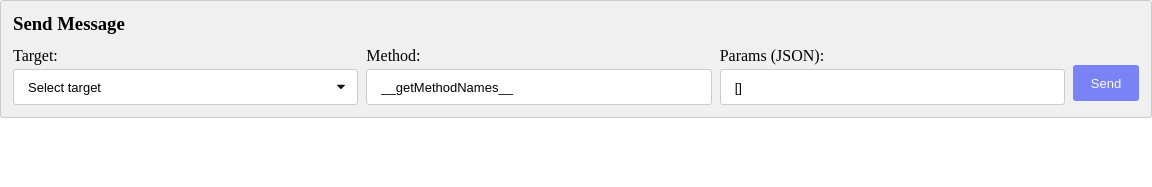
Scenario: SendMessageForm Component › displays response after successful submission
This screenshot has width=1152, height=187.
Note: Set up form values and submit
Select "kref1 (TestVat1)" in the dropdown with test id "message-target" at (186, 87), box x1=13 y1=69 x2=358 y2=105
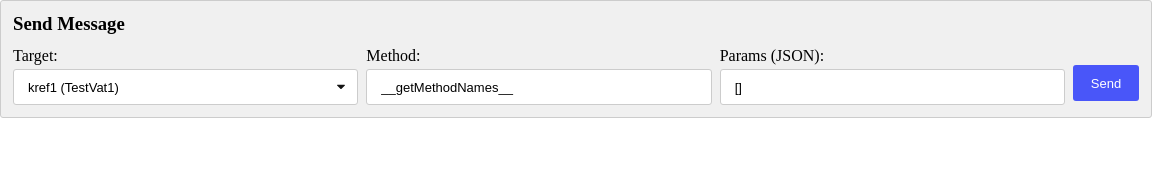
Click the button with test id "message-send-button".
click(1106, 83)  # box x1=1073 y1=65 x2=1139 y2=101
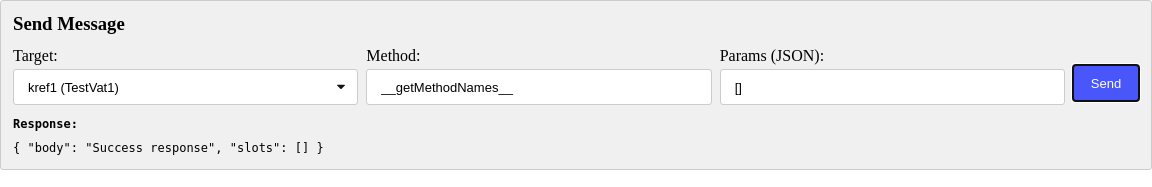
Now the heading "Response:" is shown, box x1=13 y1=117 x2=78 y2=131
Now the text "{ \"body\": \"Success response\", \"slots\": [] }" is shown, box x1=13 y1=141 x2=324 y2=155
